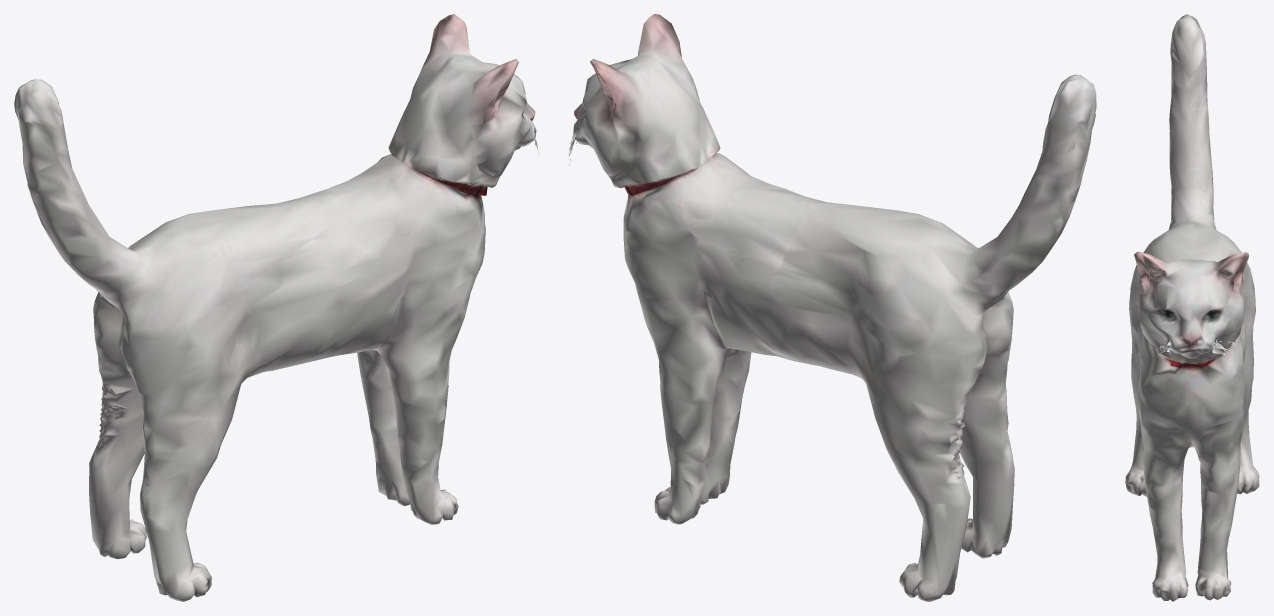
Rendered from MILKOCAT-lo.glb.
3 renders of one model, left to right at view 1: azimuth 30°, elevation 25°; view 2: azimuth 150°, elevation 25°; view 3: azimuth 270°, elevation 25°, orthographic. The views are drawn at different scales.
Visible parts, largest first — view 1: tripo_node_936d9fcb-c5c0-4d20-92aa-b025a3492c91; view 2: tripo_node_936d9fcb-c5c0-4d20-92aa-b025a3492c91; view 3: tripo_node_936d9fcb-c5c0-4d20-92aa-b025a3492c91.
Part boxes in pixels (x1=…): tripo_node_936d9fcb-c5c0-4d20-92aa-b025a3492c91: x1=14, y1=14, x2=539, y2=601; tripo_node_936d9fcb-c5c0-4d20-92aa-b025a3492c91: x1=568, y1=14, x2=1096, y2=601; tripo_node_936d9fcb-c5c0-4d20-92aa-b025a3492c91: x1=1125, y1=14, x2=1259, y2=601.
Bounding box in the file's own units: 1.03 × 0.9996 × 0.2857.
1 material, 1 textured.
